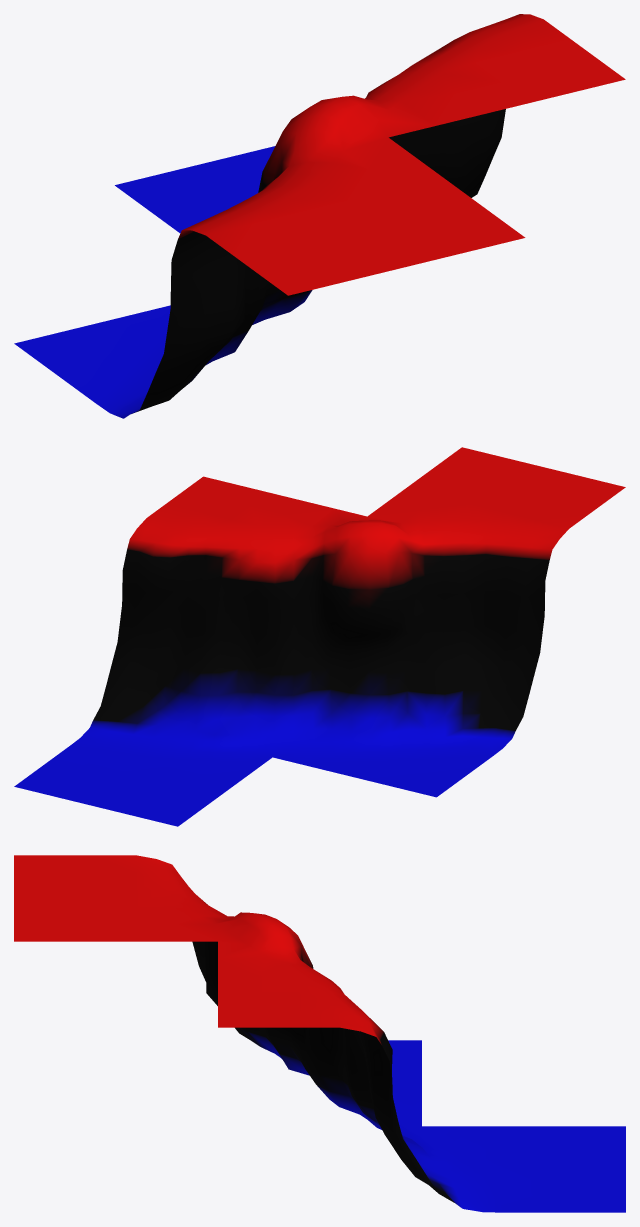
Rendered from RiveCliff03B Foreground.fbx.
3 renders of one model, top to bottom at view 1: azimuth 30°, elevation 25°; view 2: azimuth 150°, elevation 25°; view 3: azimuth 270°, elevation 25°, orthographic. The views are drawn at different scales.
Visible parts, largest first — view 1: RiveCliff03B Foreground; view 2: RiveCliff03B Foreground; view 3: RiveCliff03B Foreground.
Part boxes in pixels (x1,y1,x2,y2): RiveCliff03B Foreground: (14,14,625,418); RiveCliff03B Foreground: (14,447,625,826); RiveCliff03B Foreground: (14,855,625,1212).
Size of the model in its own units: 2 by 1.08 by 3.
